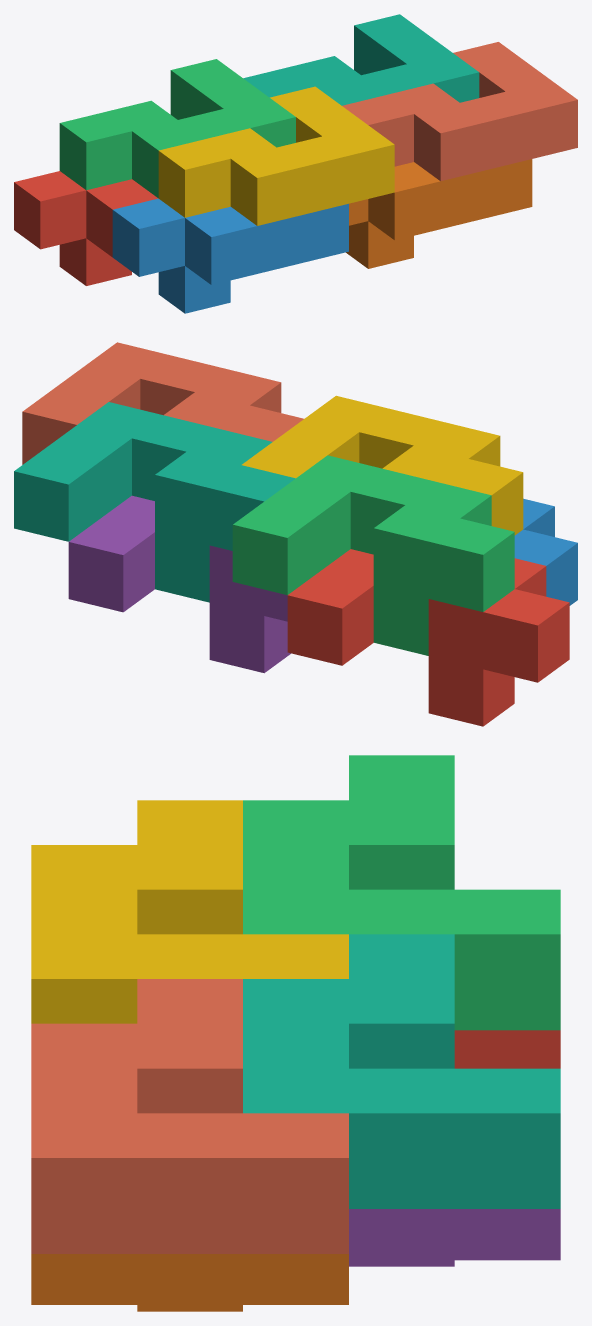
File: tiling.obj
The picture shows the model from 3 angles, top to bottom: view 1: azimuth 30°, elevation 25°; view 2: azimuth 150°, elevation 25°; view 3: azimuth 270°, elevation 25°; orthographic projection. The views are drawn at different scales.
Visible parts, largest first — view 1: copy_1_domain_4, copy_1_domain_8, copy_1_domain_2, copy_1_domain_3, copy_1_domain_6, copy_1_domain_7, copy_1_domain_1; view 2: copy_1_domain_3, copy_1_domain_7, copy_1_domain_1, copy_1_domain_4, copy_1_domain_8, copy_1_domain_5, copy_1_domain_2; view 3: copy_1_domain_8, copy_1_domain_7, copy_1_domain_3, copy_1_domain_4, copy_1_domain_6, copy_1_domain_5, copy_1_domain_1.
Part boxes in pixels (x1,y1,x2,y2): copy_1_domain_4: (158, 86, 394, 225); copy_1_domain_8: (342, 42, 577, 181); copy_1_domain_2: (112, 198, 348, 313); copy_1_domain_3: (59, 59, 295, 198); copy_1_domain_6: (346, 159, 532, 268); copy_1_domain_7: (243, 14, 479, 105); copy_1_domain_1: (14, 171, 158, 285); copy_1_domain_3: (232, 455, 514, 655); copy_1_domain_7: (14, 402, 295, 602); copy_1_domain_1: (287, 549, 569, 726); copy_1_domain_4: (242, 395, 523, 535); copy_1_domain_8: (22, 342, 303, 464); copy_1_domain_5: (68, 495, 290, 673); copy_1_domain_2: (514, 498, 577, 605); copy_1_domain_8: (31, 979, 348, 1253); copy_1_domain_7: (243, 934, 560, 1208); copy_1_domain_3: (243, 755, 560, 1030); copy_1_domain_4: (31, 800, 348, 1023); copy_1_domain_6: (31, 1254, 348, 1311); copy_1_domain_5: (349, 1209, 560, 1266); copy_1_domain_1: (454, 1030, 560, 1068).
Size of the model in its own units: 10 by 3 by 5.
